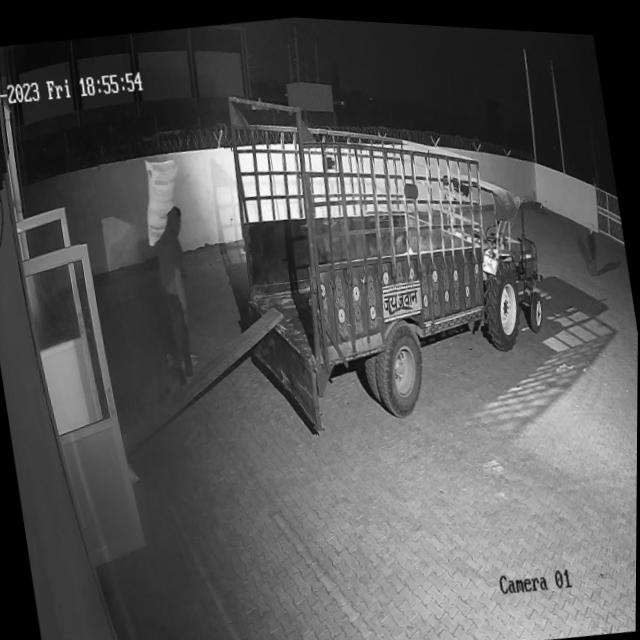sack: (137, 154, 192, 247)
